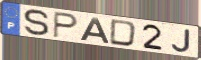2: (141, 23, 164, 52)
A: (79, 17, 111, 45)
D: (108, 19, 138, 48)
J: (170, 28, 192, 54)
P: (52, 10, 80, 40)
S: (22, 8, 51, 37)
